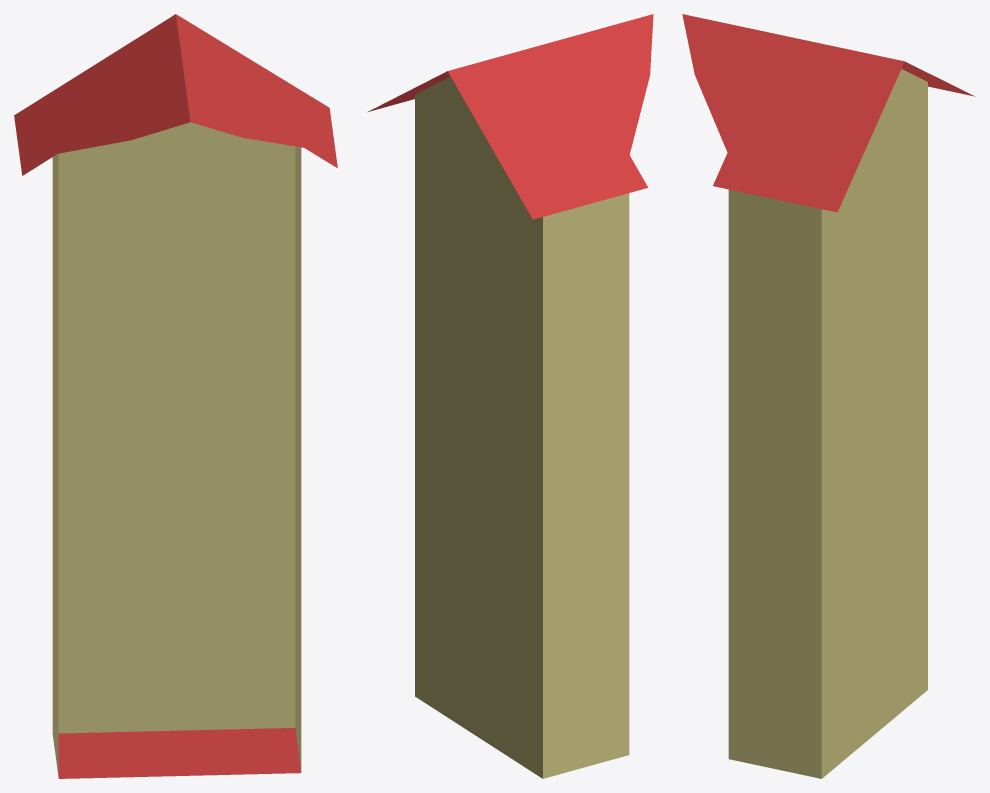
3 views of the same model, side by side, from view 1: azimuth 30°, elevation 25°; view 2: azimuth 150°, elevation 25°; view 3: azimuth 270°, elevation 25° (orthographic). The views are drawn at different scales.
Bounding box in the file's own units: 7.13 × 6.21 × 15.9.
